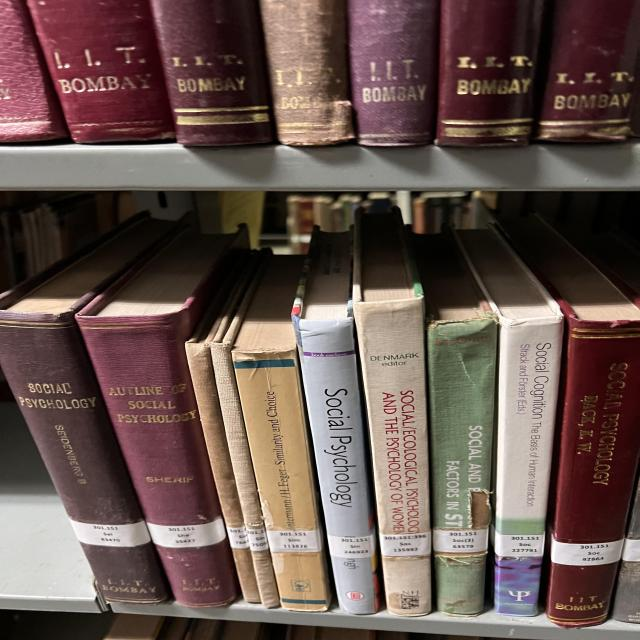Book: (0, 212, 178, 602), (78, 228, 248, 606), (500, 216, 640, 628), (457, 229, 563, 616), (232, 255, 330, 610), (410, 230, 498, 618), (292, 229, 378, 614), (352, 212, 432, 616), (210, 261, 280, 608), (185, 280, 260, 602), (27, 0, 175, 144), (152, 0, 273, 145), (435, 0, 543, 146), (537, 0, 638, 141), (260, 0, 355, 146), (348, 0, 438, 146)
Label: (147, 518, 227, 548), (70, 519, 152, 548), (552, 536, 623, 566), (433, 529, 488, 552), (380, 532, 432, 556), (267, 530, 322, 552), (327, 534, 375, 559), (495, 532, 545, 556), (227, 526, 250, 549), (245, 528, 268, 551), (622, 539, 640, 562)
